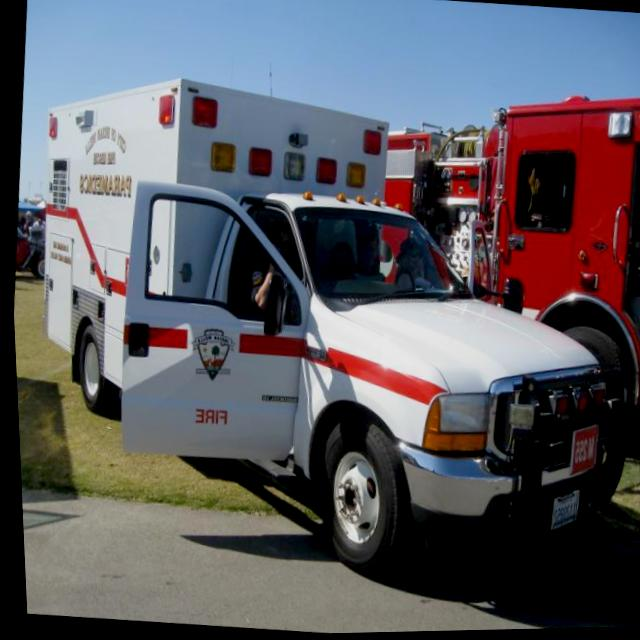emergency: (4, 58, 640, 607)
